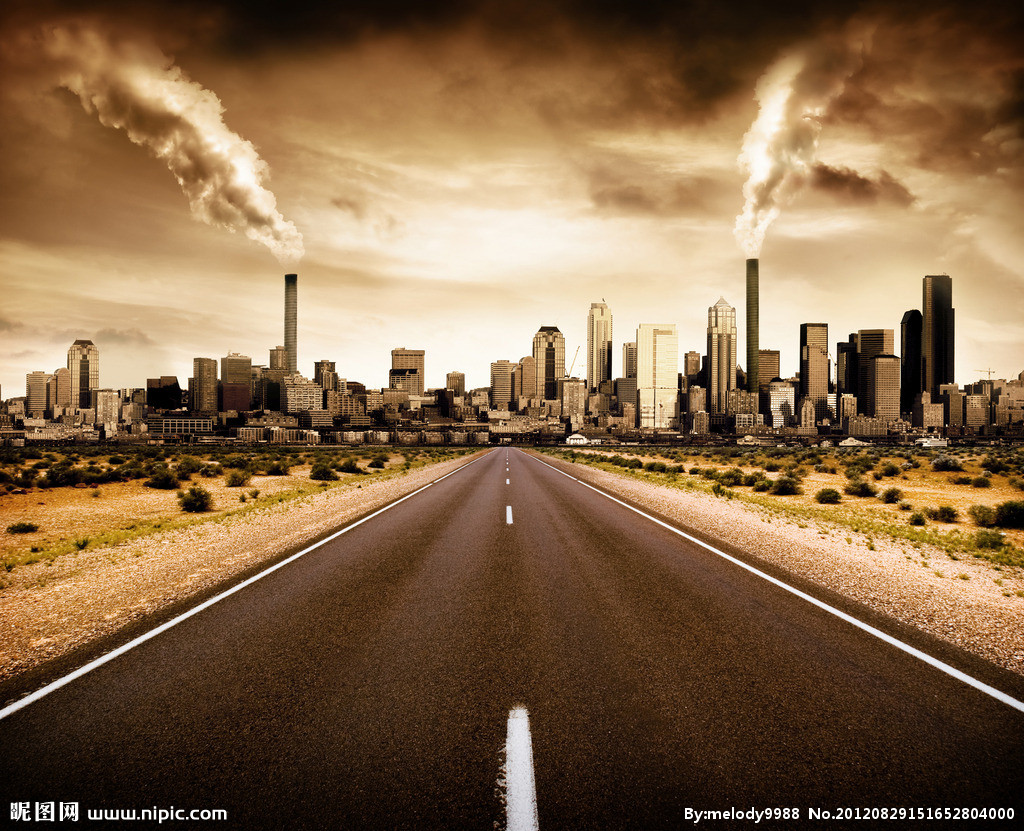dust: (69, 18, 311, 293), (717, 47, 857, 273)
